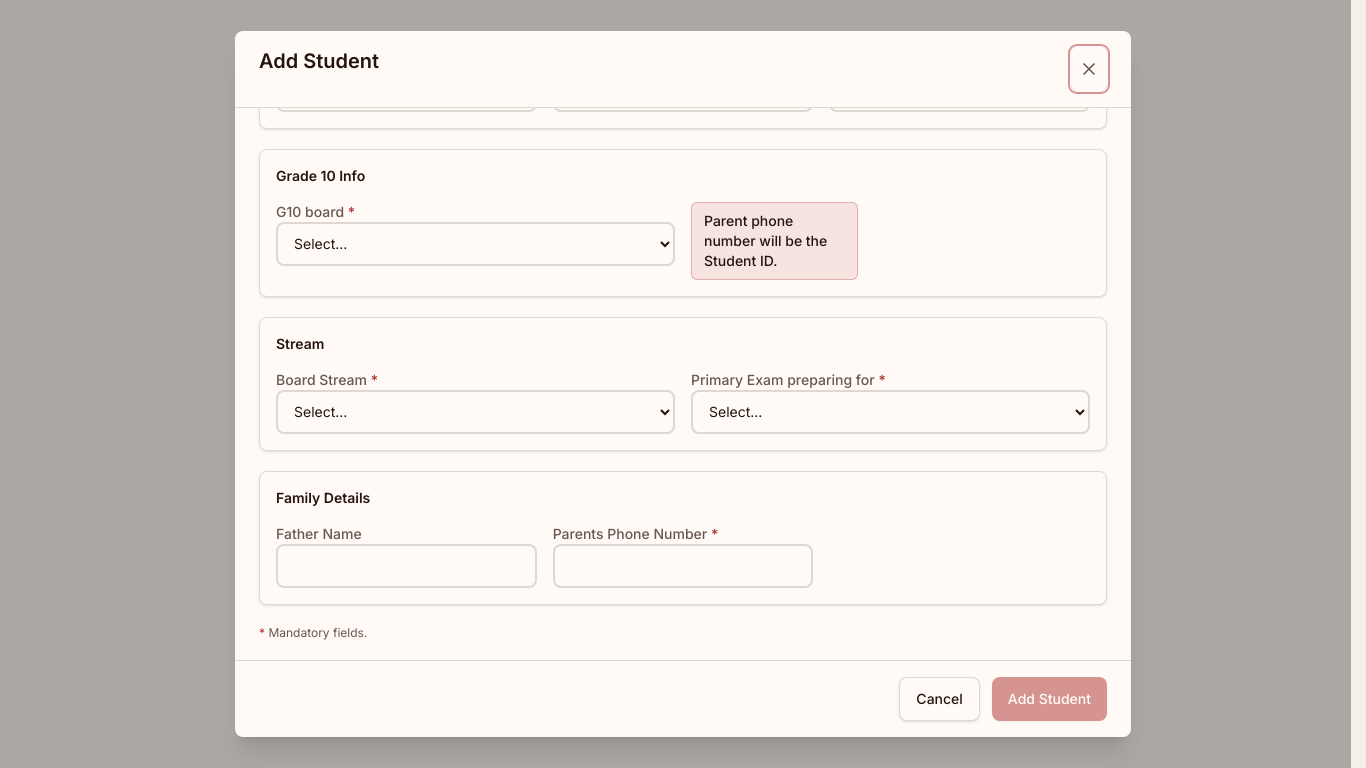
Test: AddStudentModal › keeps invalid phone digits for phone validation
(page scrolled)
Type "09999999999" into the field labelled "Parents Phone Number" at (683, 566), box [553, 544, 813, 588]
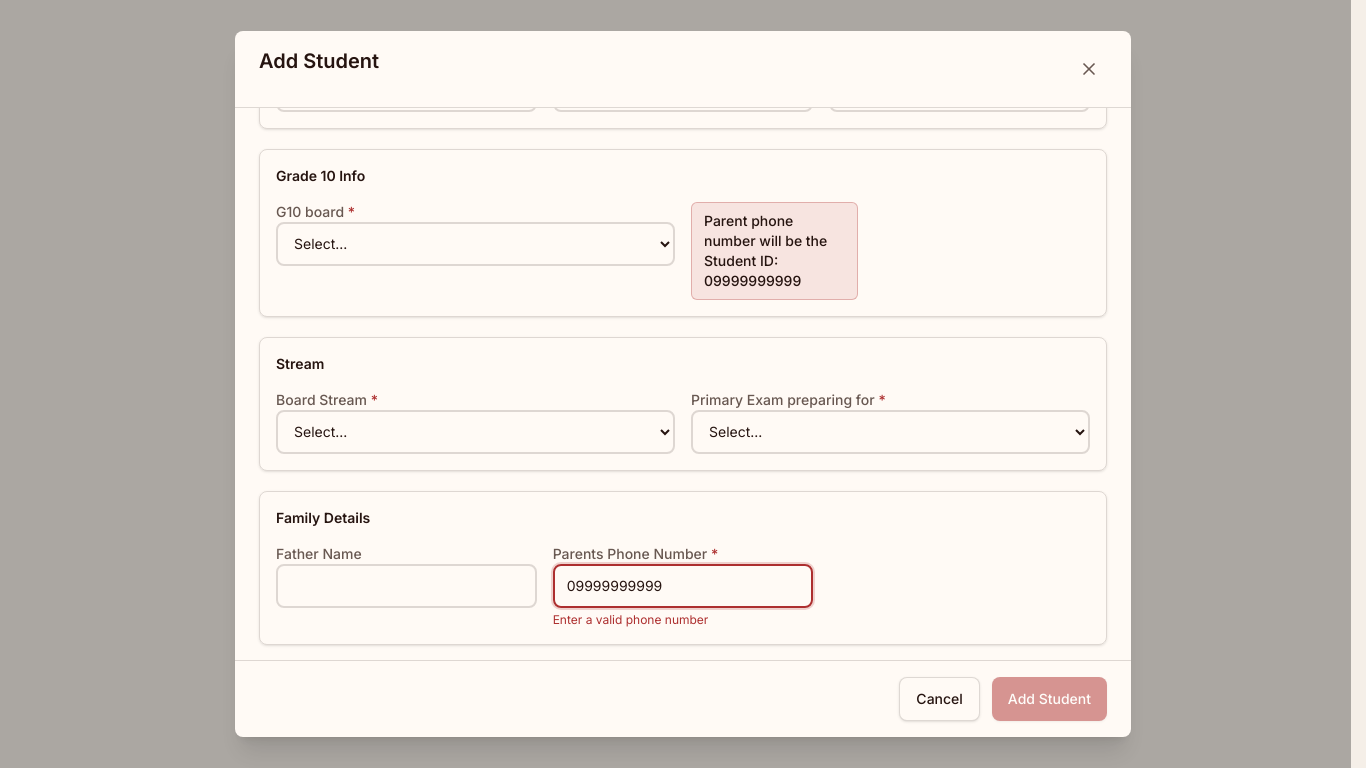
Expected: the button "Add Student" is disabled, [992, 677, 1107, 721]
Expected: the text "Enter a valid phone number" is shown, [553, 612, 708, 627]
